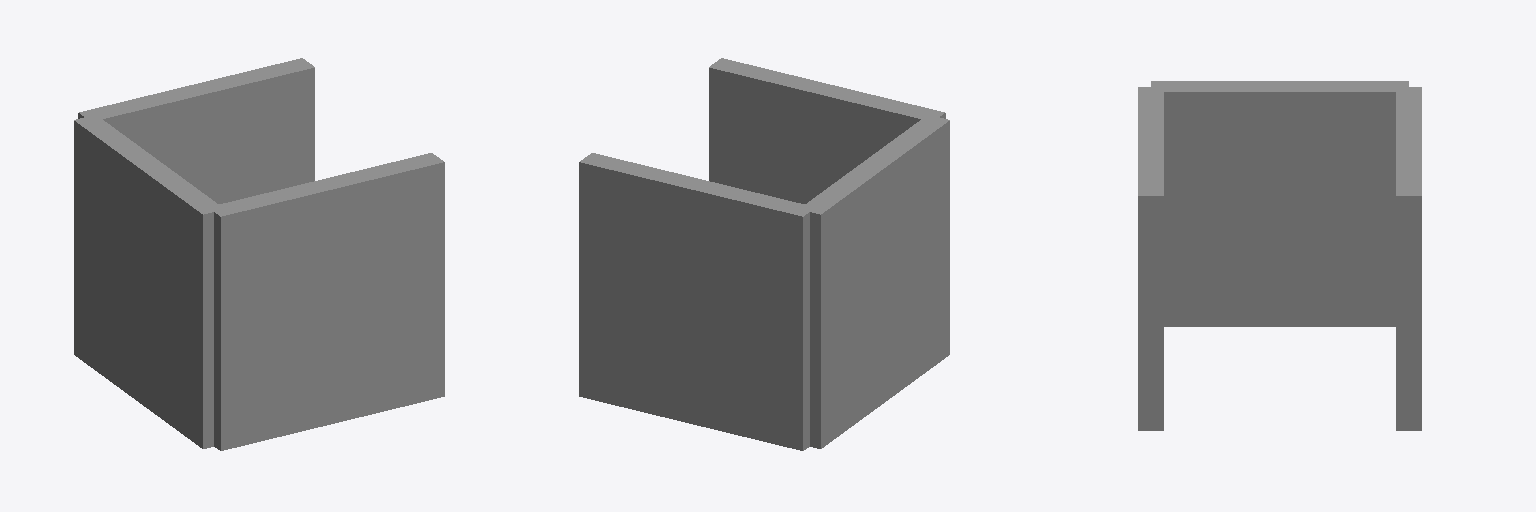
Rendered from house.obj.
3 views of the same model, side by side, from view 1: azimuth 30°, elevation 25°; view 2: azimuth 150°, elevation 25°; view 3: azimuth 270°, elevation 25° (orthographic).
Visible parts, largest first — view 1: Cube.003, Cube, Cube.001; view 2: Cube.001, Cube, Cube.003; view 3: Cube, Cube.003, Cube.001.
Boxes of the visible parts, <box> form: Cube.003: <box>208,153,444,450</box>; Cube: <box>74,115,222,448</box>; Cube.001: <box>78,58,314,203</box>; Cube.001: <box>579,153,815,450</box>; Cube: <box>802,115,949,448</box>; Cube.003: <box>709,58,945,203</box>; Cube: <box>1151,81,1408,326</box>; Cube.003: <box>1138,87,1163,430</box>; Cube.001: <box>1396,87,1421,430</box>.
Size of the model in its own units: 2.1 by 2 by 2.2.